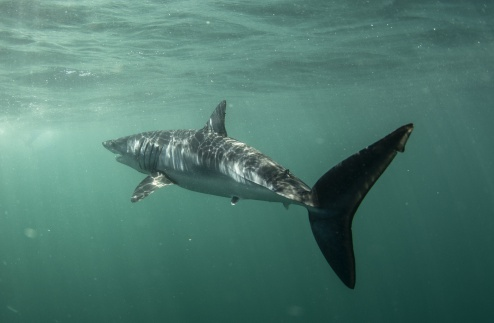Mako: (92, 98, 417, 301)
